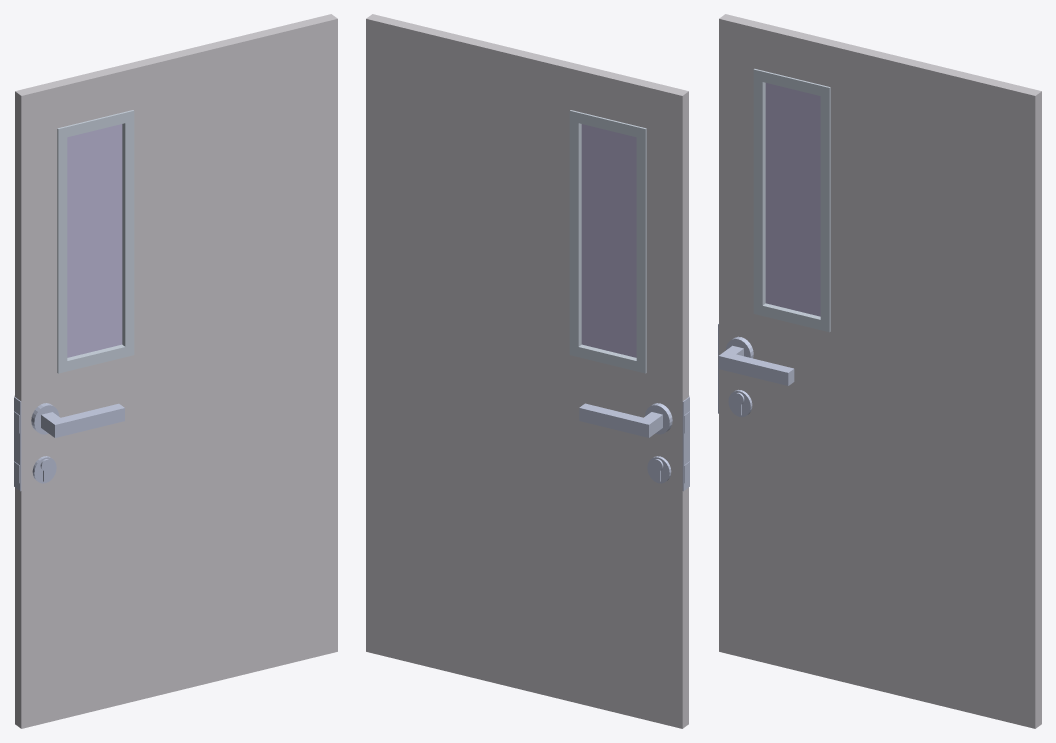
File: Door 1.fbx
3 views of the same model, side by side, from view 1: azimuth 30°, elevation 25°; view 2: azimuth 150°, elevation 25°; view 3: azimuth 330°, elevation 25° (orthographic).
Visible parts, largest first — view 1: Door, pasted__Door; view 2: Door, pasted__Door; view 3: Door, pasted__Door.
Part boxes in pixels (x1,y1,x2,y2): Door: [14, 14, 337, 728]; pasted__Door: [14, 395, 124, 437]; Door: [366, 14, 689, 728]; pasted__Door: [579, 395, 689, 437]; Door: [718, 14, 1041, 728]; pasted__Door: [718, 336, 794, 385].
Size of the model in its own units: 32.25 by 61.35 by 7.09.
